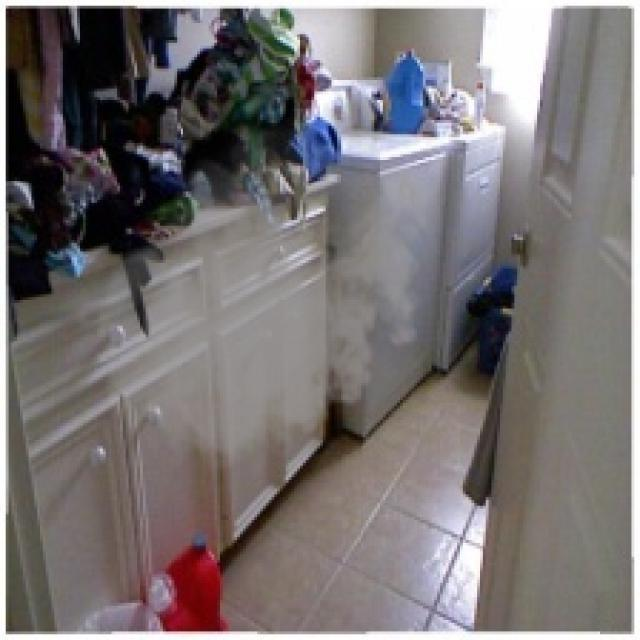Smoke: (71, 106, 440, 483)
